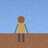person: (15, 16, 28, 42)
